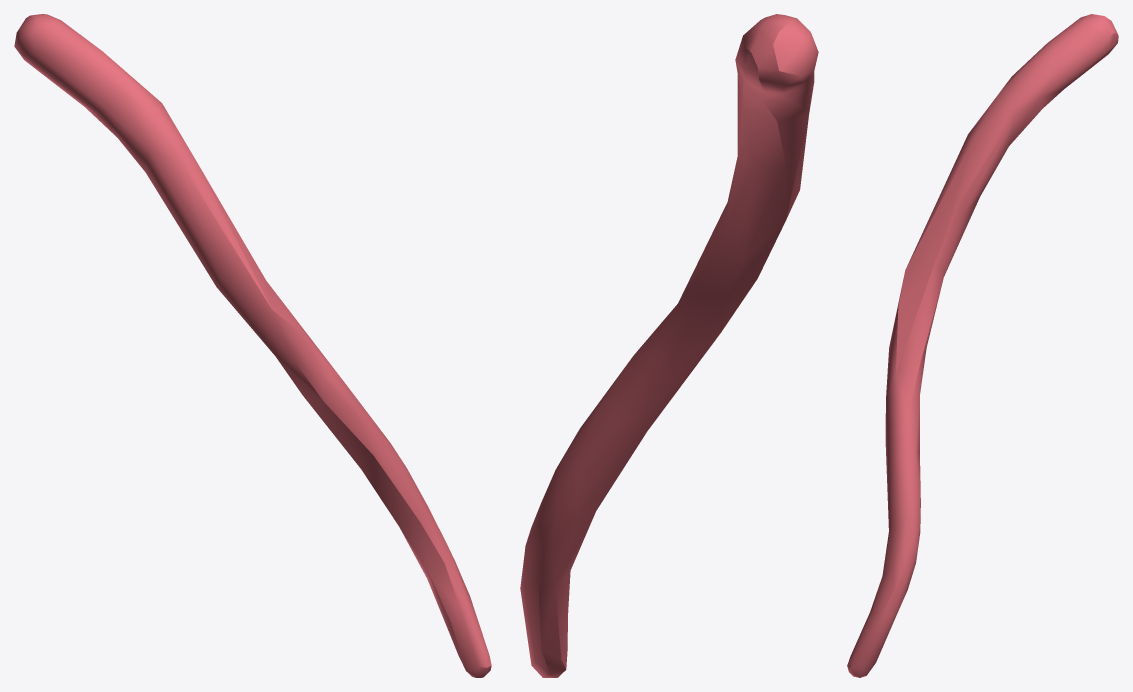
File: fma66403_fj2663.glb
3 views of the same model, side by side, from view 1: azimuth 30°, elevation 25°; view 2: azimuth 150°, elevation 25°; view 3: azimuth 270°, elevation 25° (orthographic). The views are drawn at different scales.
Parts seen in each view (by area): view 1: FMA66403_FJ2663; view 2: FMA66403_FJ2663; view 3: FMA66403_FJ2663.
Boxes of the visible parts, left/top/right/bottom form: FMA66403_FJ2663: left=14, top=14, right=491, bottom=677; FMA66403_FJ2663: left=520, top=14, right=818, bottom=677; FMA66403_FJ2663: left=847, top=14, right=1118, bottom=677.
Size of the model in its own units: 0.00961 by 0.0174 by 0.00798.
